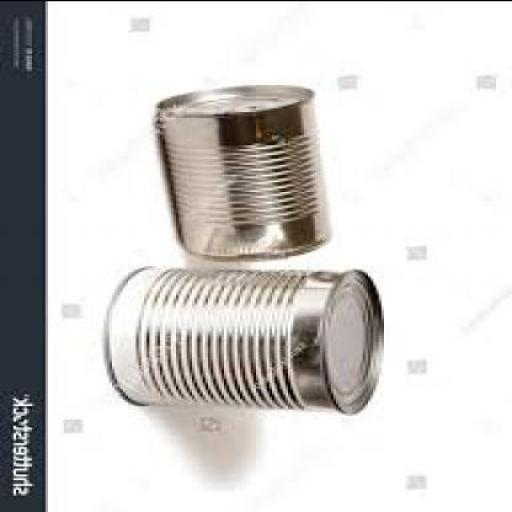metal: (107, 266, 387, 416), (158, 86, 336, 262)
